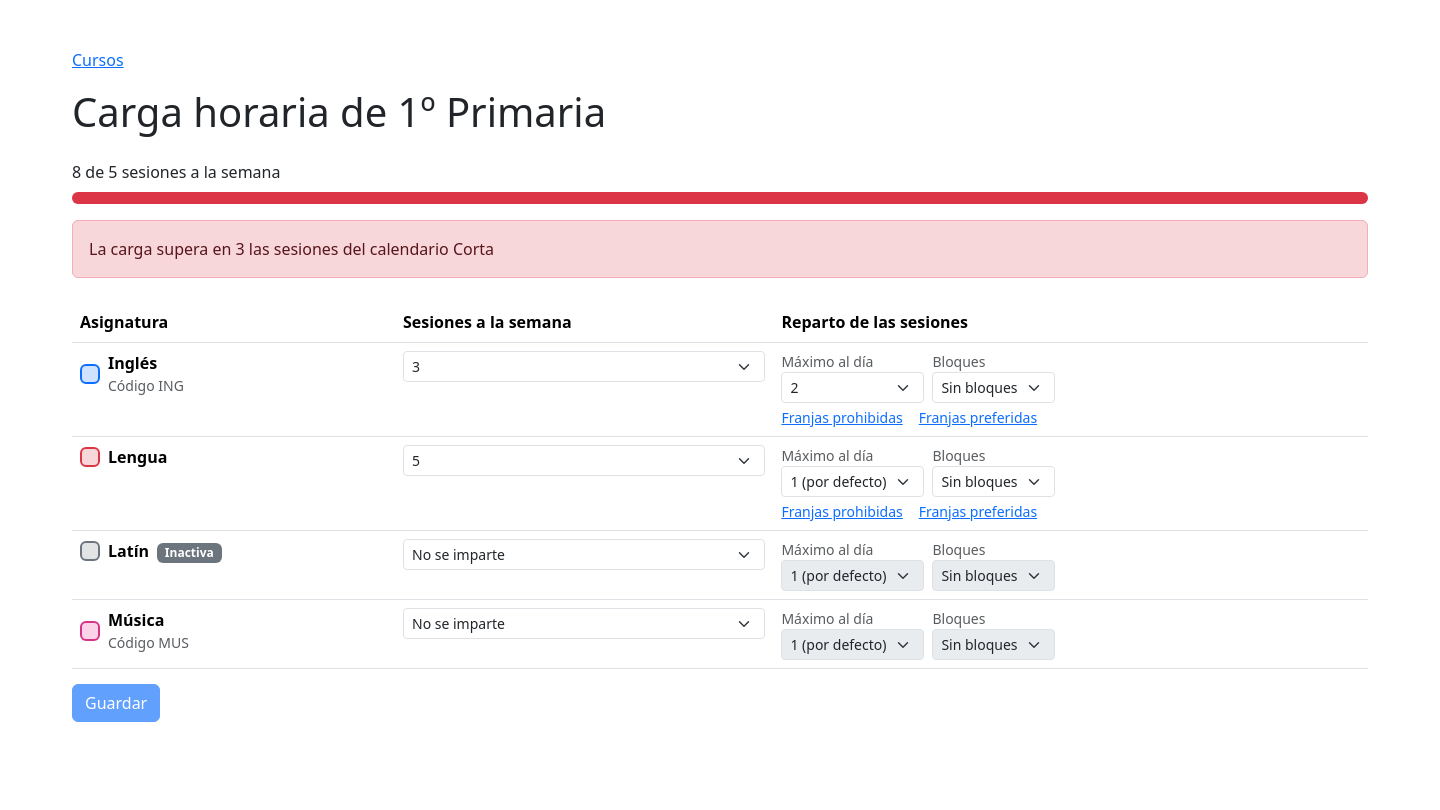
Scenario: CourseWorkloadPage › as an administrator › warns when the load exceeds the sessions of the calendar, and stops warning when editing makes it fit
Check: the text "8 de 5 sesiones a la semana" is shown, box [72,161,280,183]
Check: the message named "Avisos de la carga horaria" reads "La carga supera en 3 las sesiones del calendario Corta", box [89,238,494,260]
Select "No se imparte" in the dropdown named "Sesiones a la semana de Lengua": x=584, y=460 [403,445,765,476]
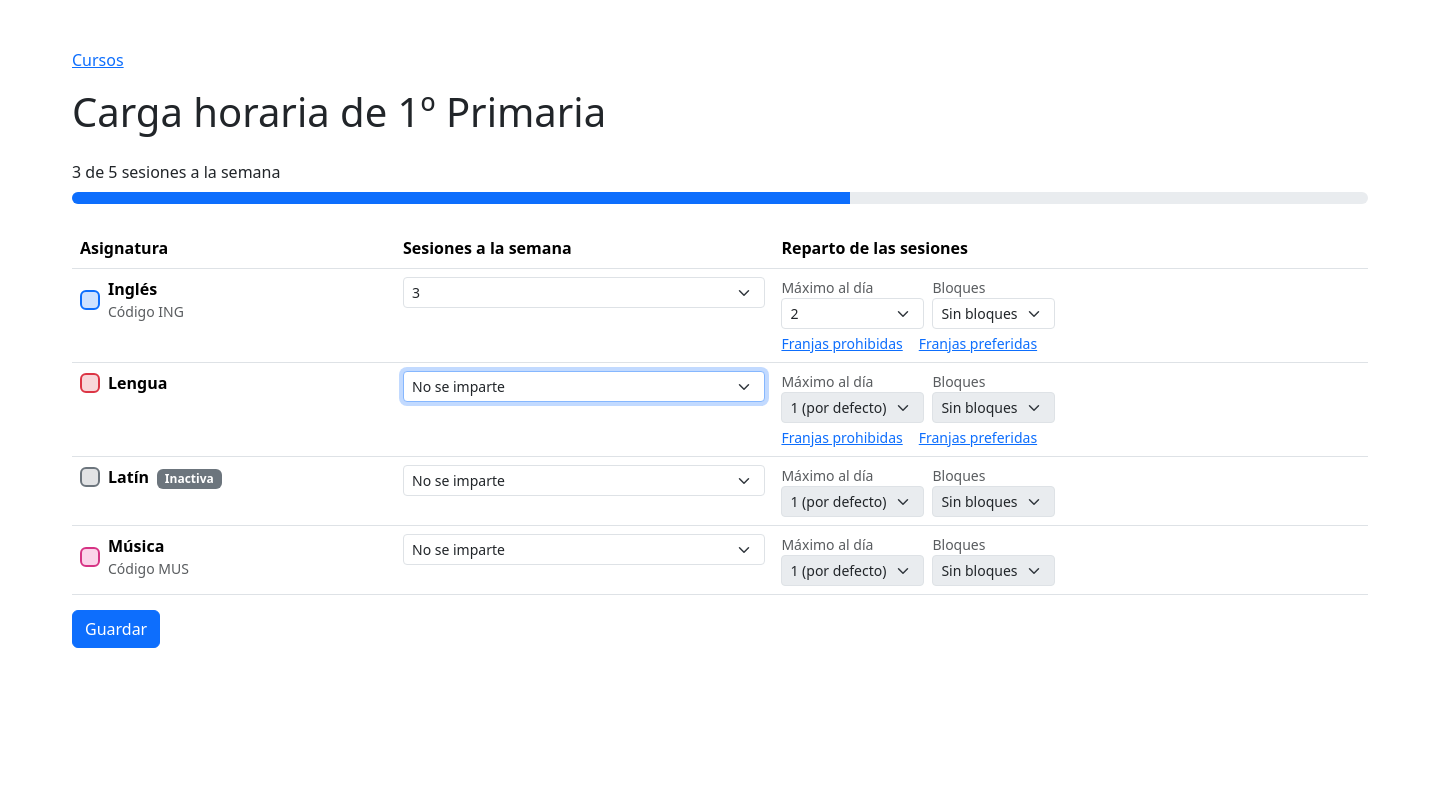
Check: the text "3 de 5 sesiones a la semana" is shown, box [72,161,280,183]
Select "5" in the dropdown named "Sesiones a la semana de Lengua": x=584, y=386 [403,371,765,402]
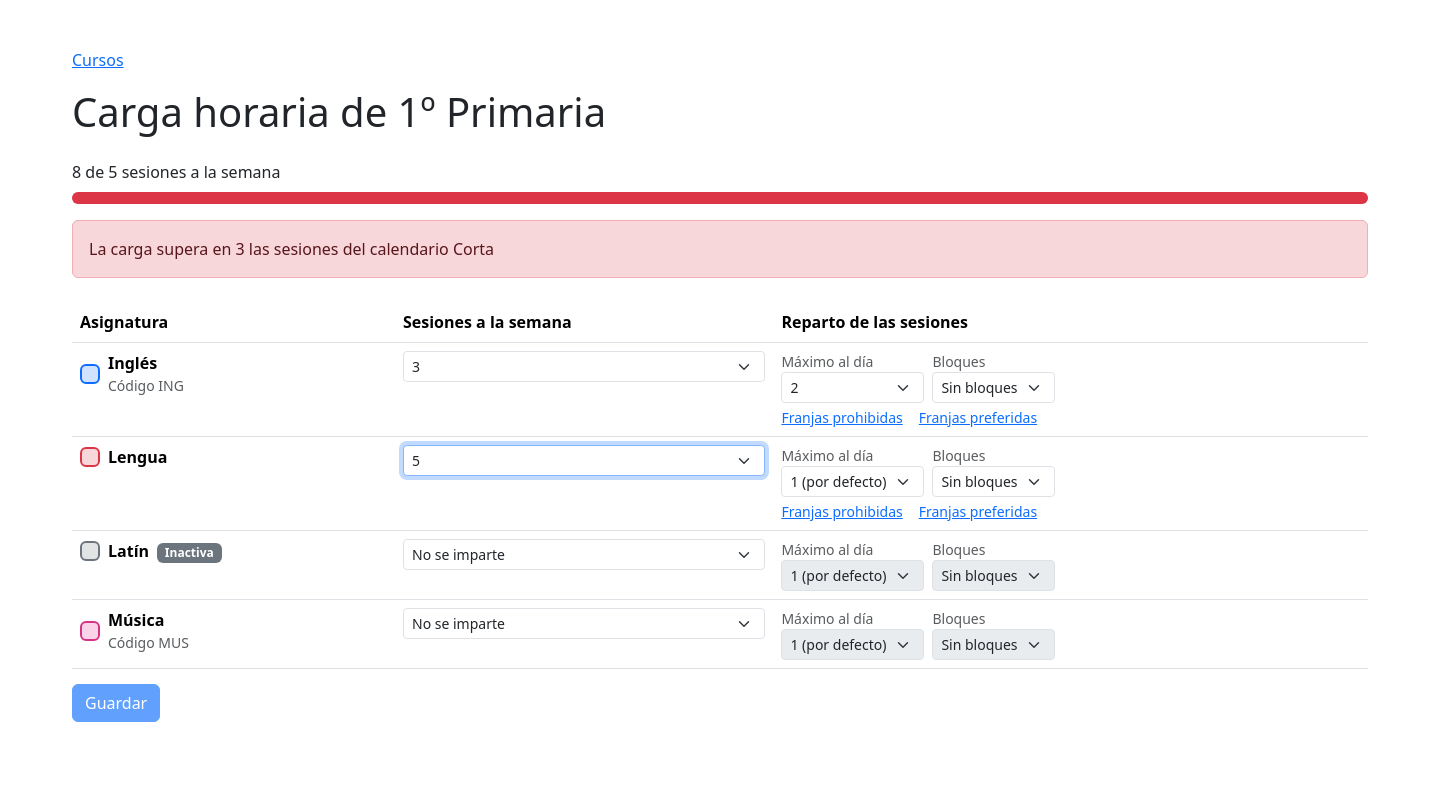
Check: the message named "Avisos de la carga horaria" reads "La carga supera en 3 las sesiones del calendario Corta", box [89,238,494,260]
